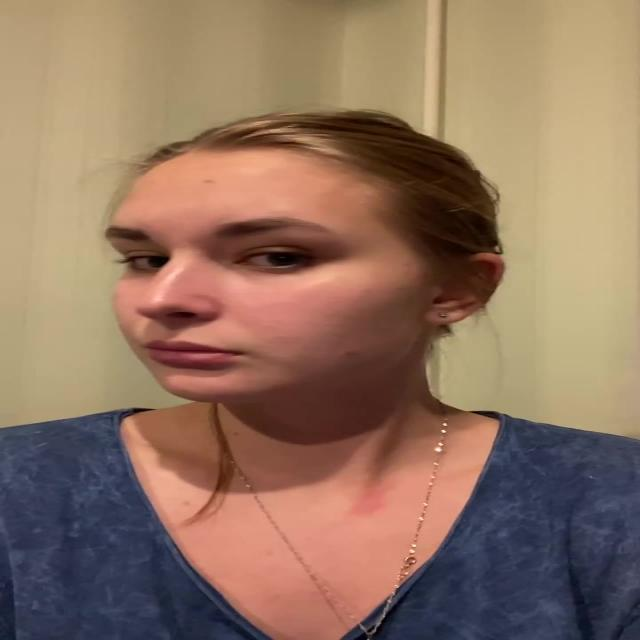earlobe: (424, 253, 504, 325)
